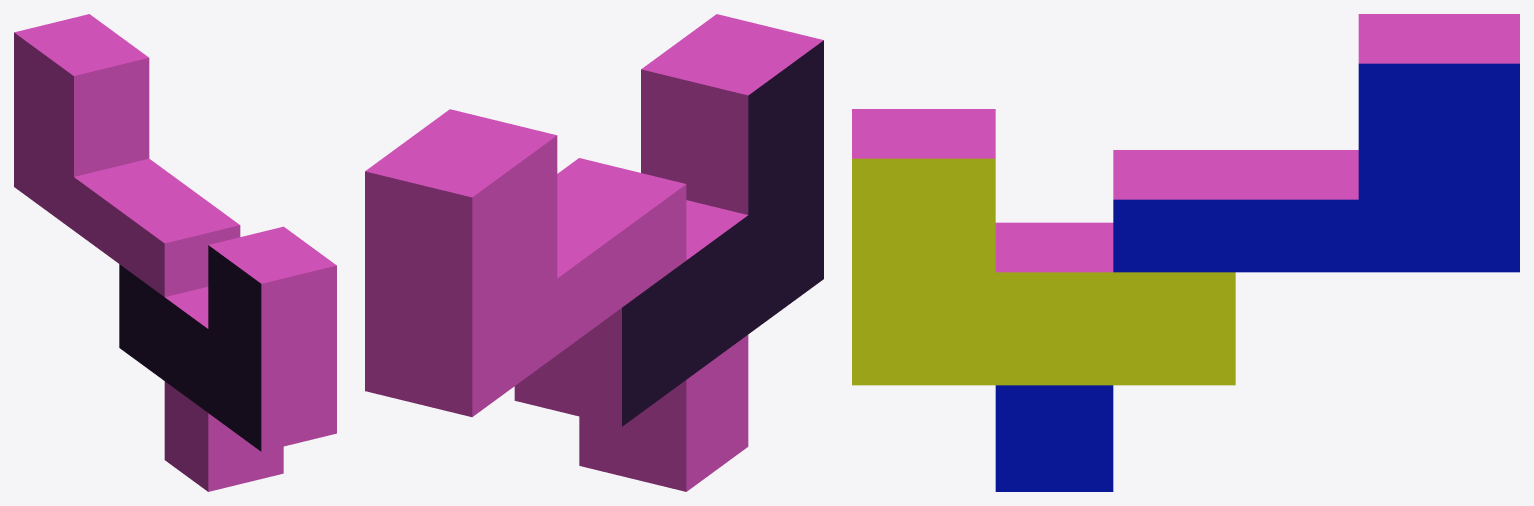
Rendered from Example.fbx.
The picture shows the model from 3 angles, left to right: view 1: azimuth 30°, elevation 25°; view 2: azimuth 150°, elevation 25°; view 3: azimuth 270°, elevation 25°; orthographic projection. The views are drawn at different scales.
Visible parts, largest first — view 1: Cube; view 2: Cube; view 3: Cube.
Boxes of the visible parts, <box> form: Cube: <box>14,14,336,491</box>; Cube: <box>365,14,823,491</box>; Cube: <box>852,14,1519,491</box>.
Bounding box in the file's own units: 200 × 804 × 1136.
